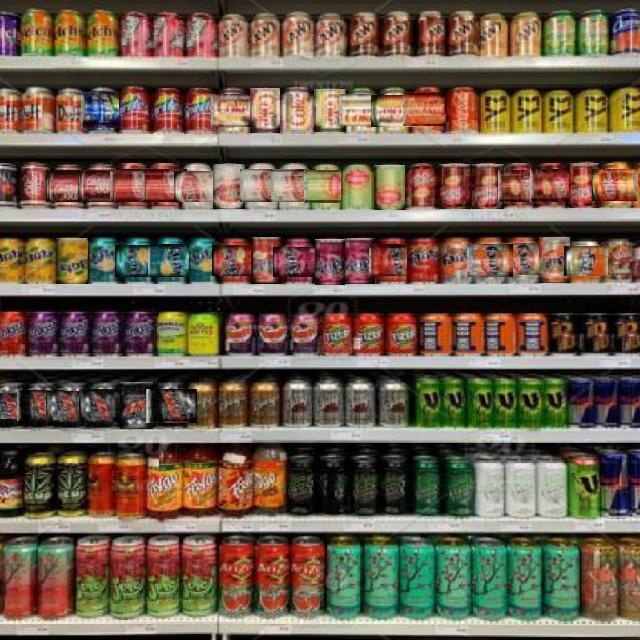Drinks: (145, 389, 197, 423), (120, 381, 153, 429), (81, 93, 126, 128), (120, 85, 153, 132), (80, 389, 127, 422), (403, 92, 448, 126), (210, 94, 256, 127), (280, 87, 313, 133), (446, 87, 479, 133), (438, 163, 471, 209), (471, 163, 504, 209), (116, 244, 162, 277), (440, 238, 473, 284), (56, 237, 88, 284), (183, 88, 217, 132), (18, 163, 52, 207), (499, 243, 545, 275), (338, 94, 384, 126), (371, 95, 417, 127), (109, 170, 155, 202), (141, 170, 187, 202), (213, 163, 245, 209), (239, 170, 285, 202), (270, 170, 316, 202), (303, 171, 349, 203), (374, 164, 406, 210), (406, 163, 438, 209), (497, 170, 543, 202), (529, 170, 575, 202), (89, 238, 121, 284), (148, 245, 194, 277), (189, 239, 221, 285), (408, 239, 440, 285), (467, 245, 513, 277), (314, 238, 345, 285), (344, 237, 375, 284), (539, 236, 570, 283), (47, 391, 94, 422), (175, 170, 220, 202), (593, 169, 638, 201), (251, 236, 281, 284), (153, 88, 184, 134), (342, 164, 373, 210), (24, 238, 55, 284), (213, 245, 259, 276), (274, 246, 320, 277), (369, 245, 415, 276), (313, 89, 346, 132), (17, 391, 64, 421), (47, 170, 91, 202), (79, 170, 123, 202), (569, 162, 599, 208), (250, 88, 280, 133), (565, 246, 608, 276), (0, 238, 25, 282), (0, 393, 37, 419)
